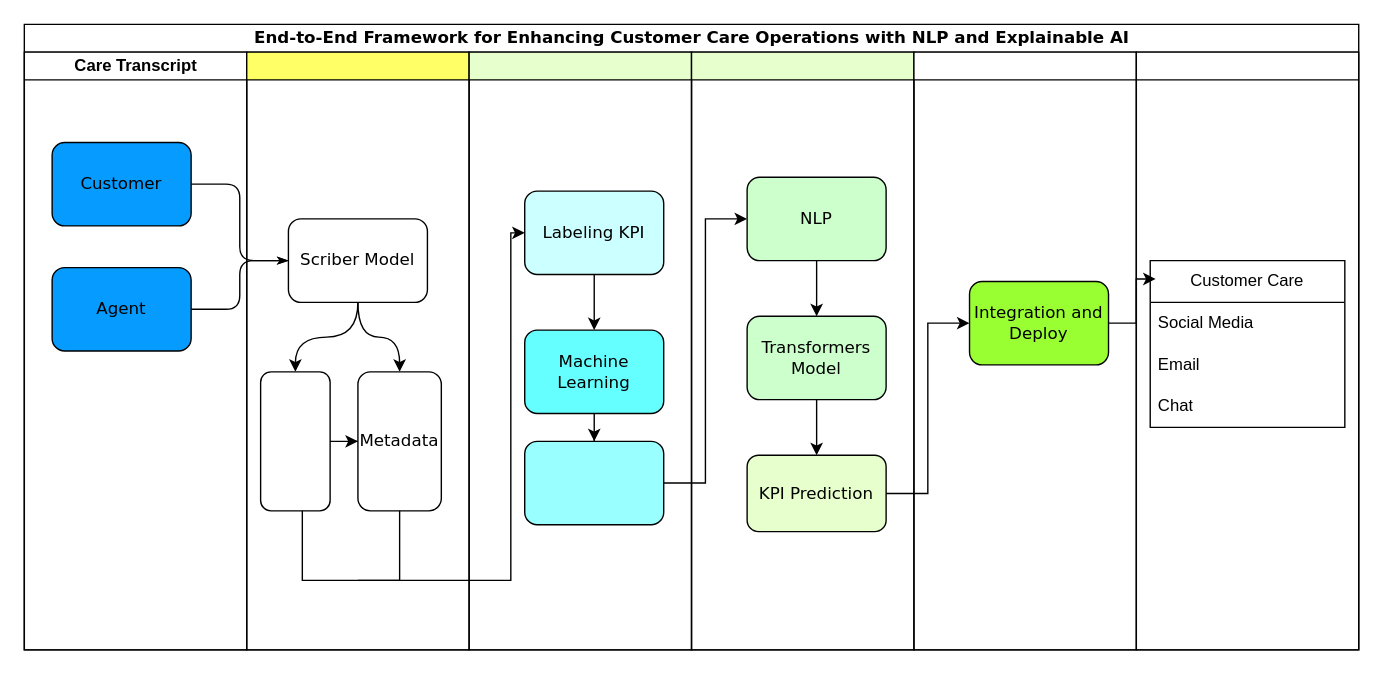
The diagram is 1383 pixels wide and 674 high, and some of its shapes have lost their labels. Each missing label, with the box of its shape:
Advance NLP: (690, 51, 914, 650)
Deploy Model: (913, 51, 1136, 650)
Gridspace Scriber: (245, 51, 469, 650)
Labeling & ML: (468, 51, 692, 650)
Service: (1135, 51, 1359, 650)
Transcript: (259, 370, 330, 511)
XAI: (523, 440, 664, 525)
